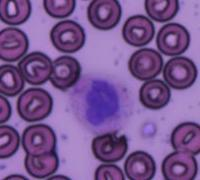N: (66, 71, 136, 136)
